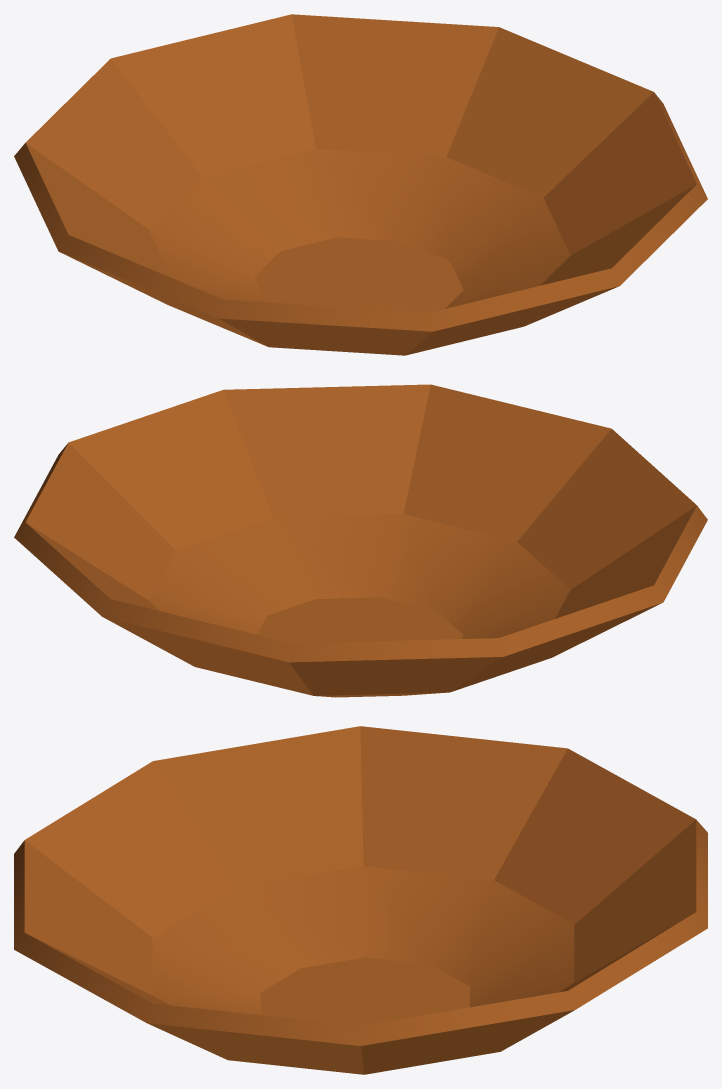
File: SM_bowl_02.FBX
3 views of the same model, one above another, from view 1: azimuth 30°, elevation 25°; view 2: azimuth 150°, elevation 25°; view 3: azimuth 270°, elevation 25° (orthographic). The views are drawn at different scales.
Visible parts, largest first — view 1: Cylinder023; view 2: Cylinder023; view 3: Cylinder023.
Boxes of the visible parts, x1,y1,x2,y2 form: Cylinder023: (14, 14, 707, 355); Cylinder023: (14, 384, 707, 697); Cylinder023: (14, 726, 707, 1074).
Bounding box in the file's own units: 66.32 × 15.97 × 62.81.
